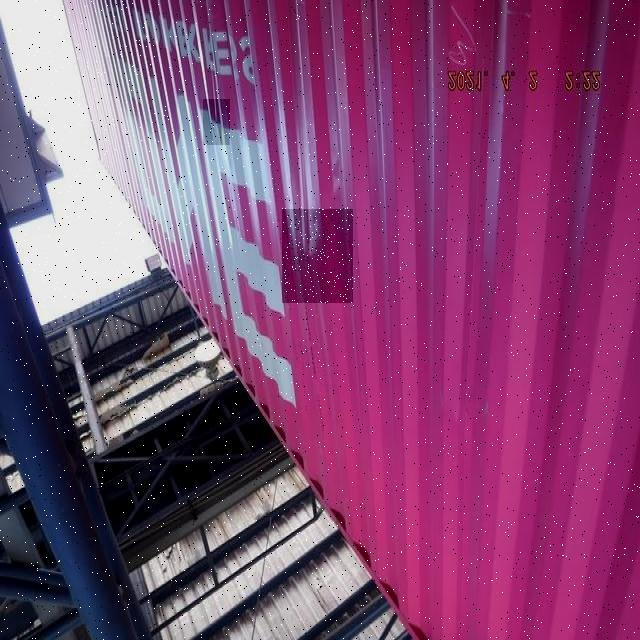Dent: (282, 207, 353, 303)
Minor-Dent: (203, 99, 230, 145)
